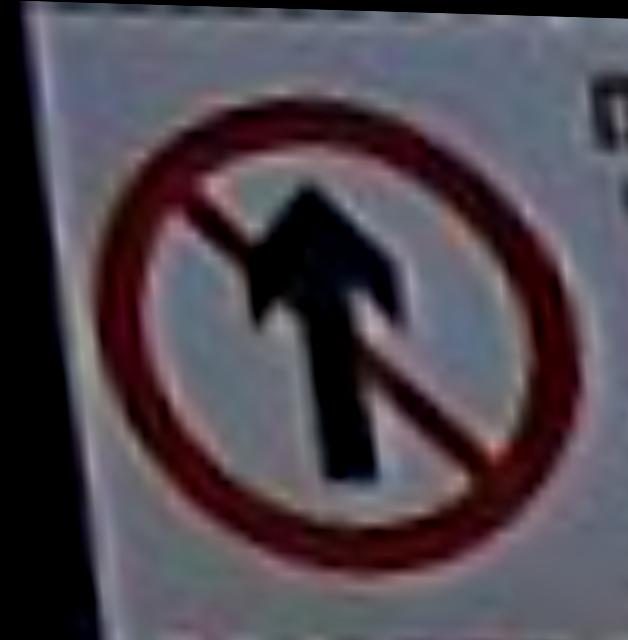not_go_straight: (66, 74, 595, 584)
